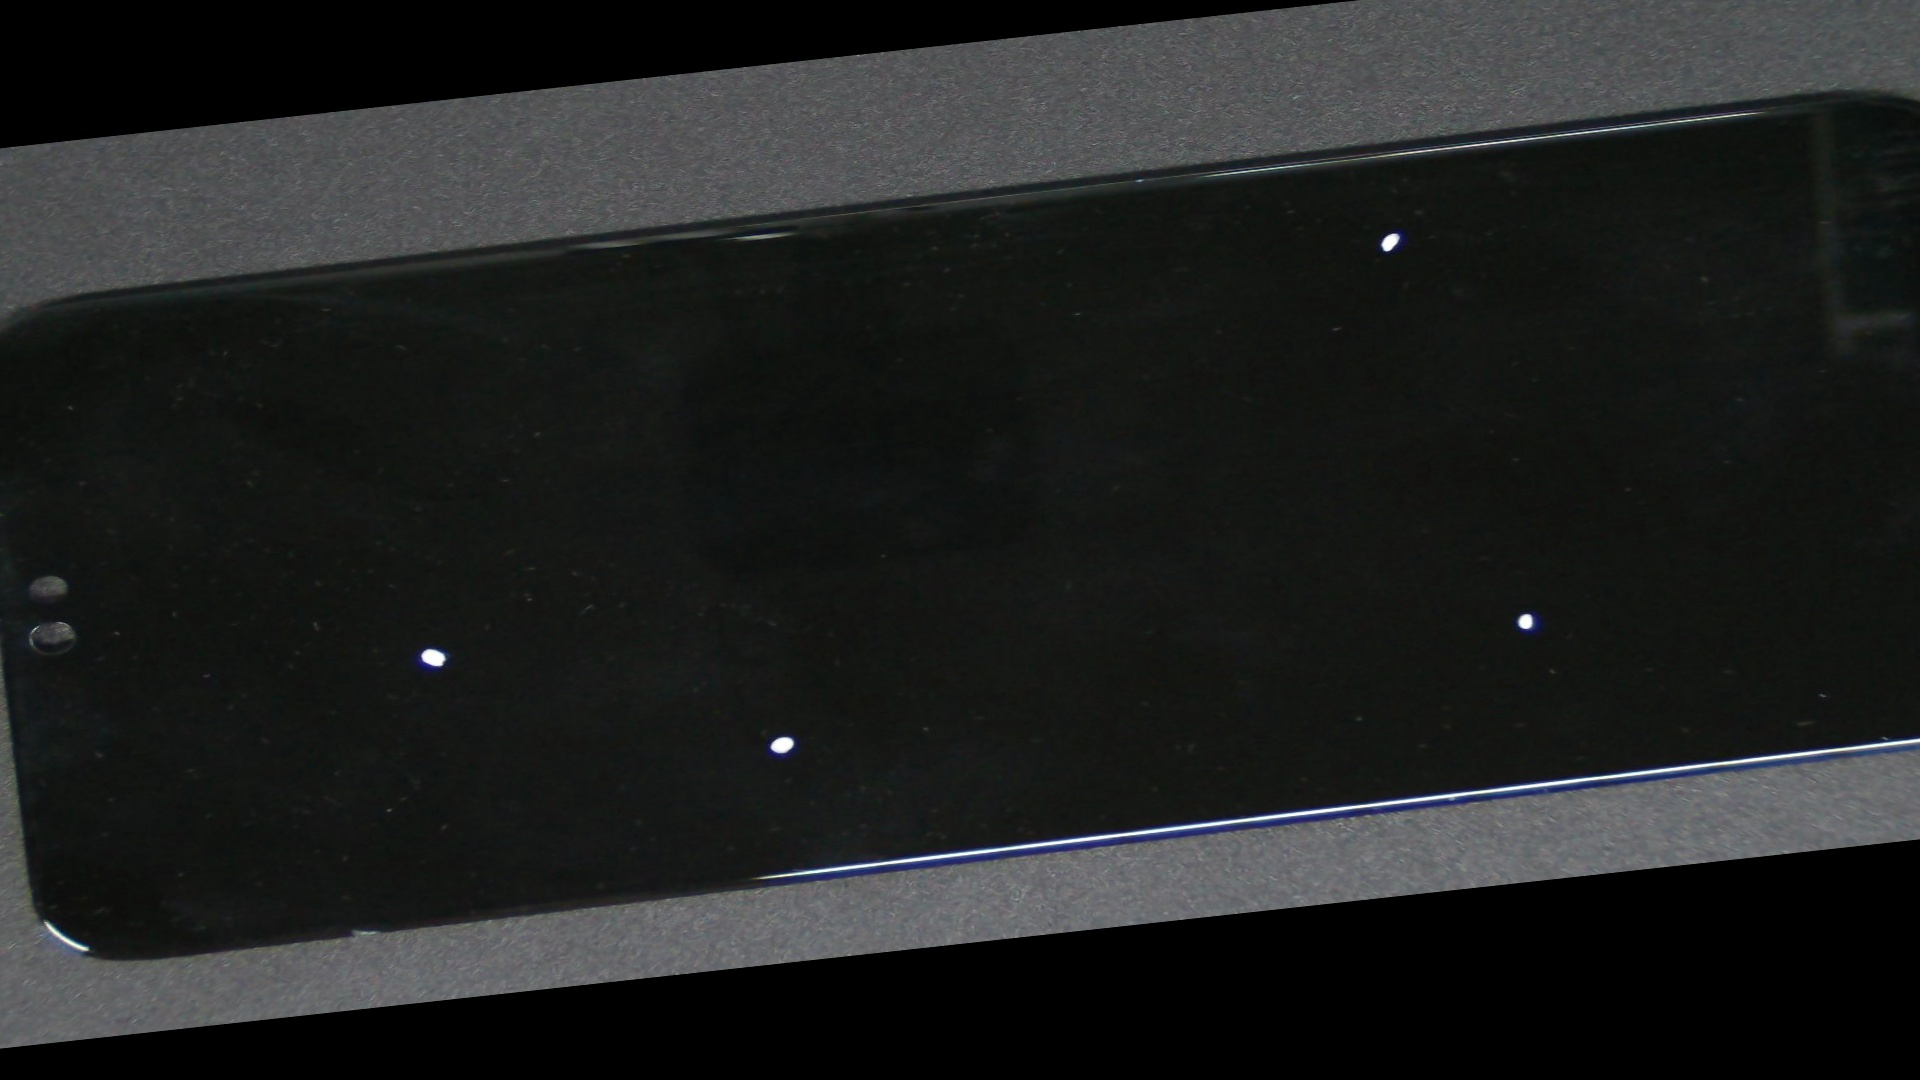oil: (663, 236, 1920, 969), (290, 355, 1254, 1010), (597, 40, 1920, 438), (113, 347, 738, 951)
